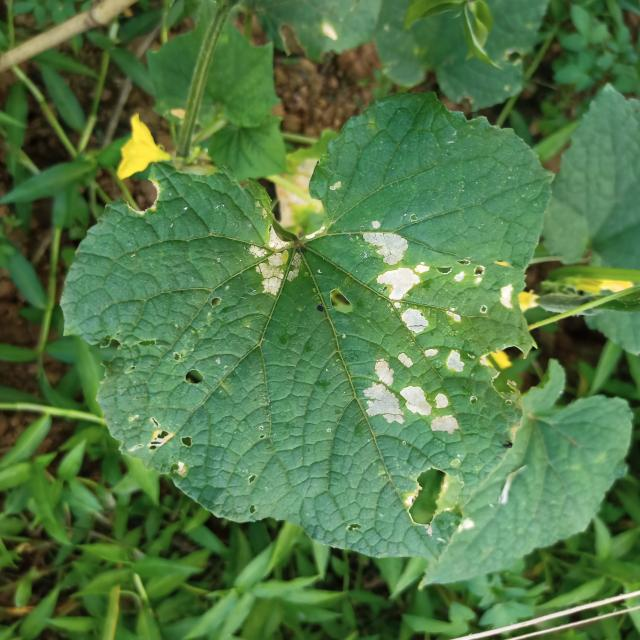disease_cucumber: (354, 214, 518, 344), (354, 345, 481, 451), (238, 222, 314, 310)
